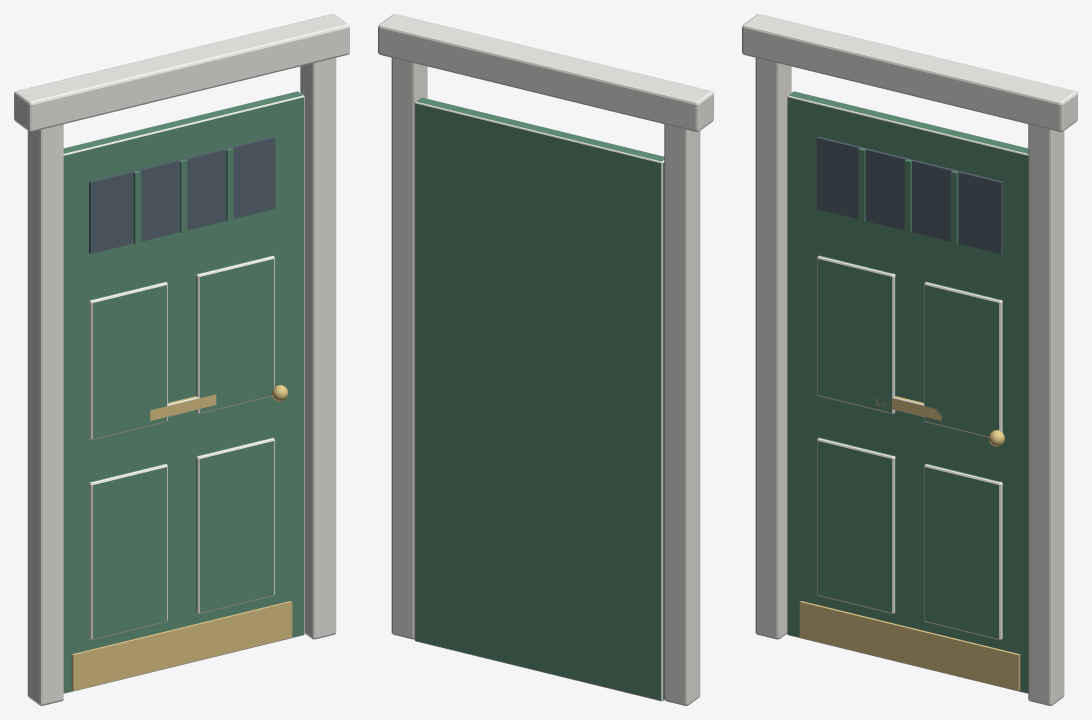
File: house_door.glb
The picture shows the model from 3 angles, left to right: view 1: azimuth 30°, elevation 25°; view 2: azimuth 150°, elevation 25°; view 3: azimuth 330°, elevation 25°; orthographic projection.
Parts seen in each view (by area): view 1: Door; view 2: Door; view 3: Door.
Part boxes in pixels (x1,y1,x2,y2): Door: (14,14,349,705); Door: (378,14,713,705); Door: (742,14,1077,705).
Size of the model in its own units: 1.32 by 2.39 by 0.13.
